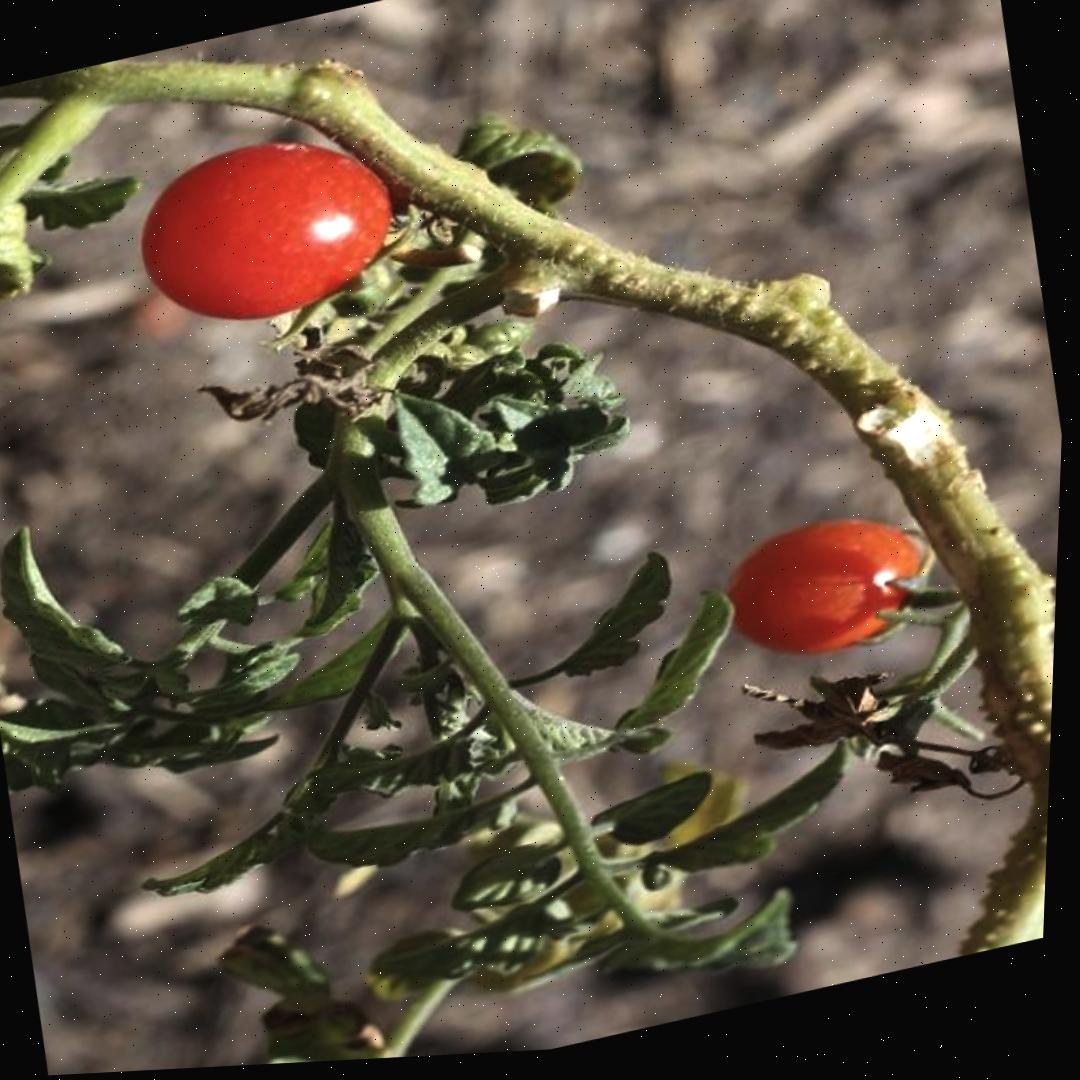matang: (123, 111, 415, 347), (707, 498, 939, 679)
